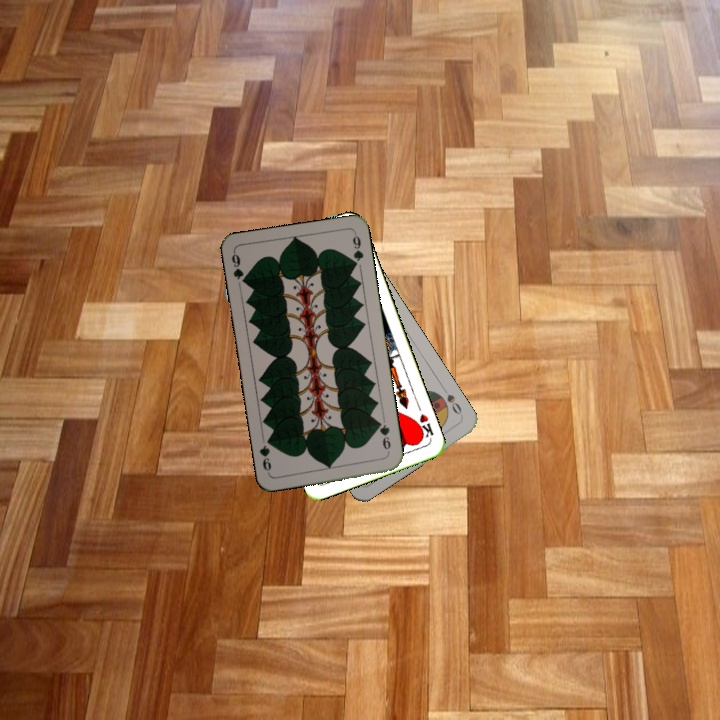G9: (227, 248, 250, 288), (373, 417, 393, 457)
HK: (412, 410, 436, 442)
SO: (439, 384, 465, 420)
